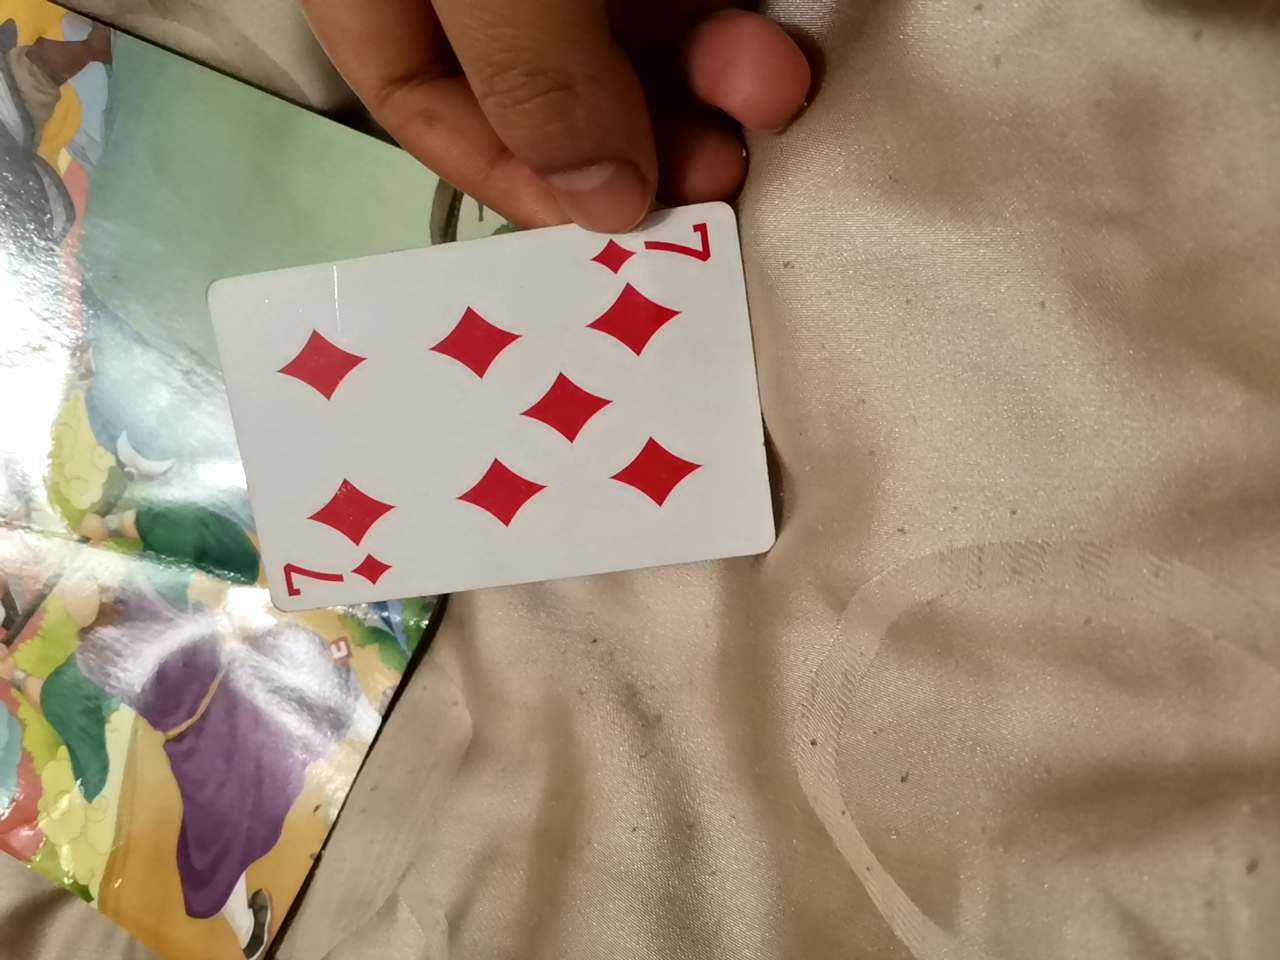fk 7: (198, 206, 765, 600)
